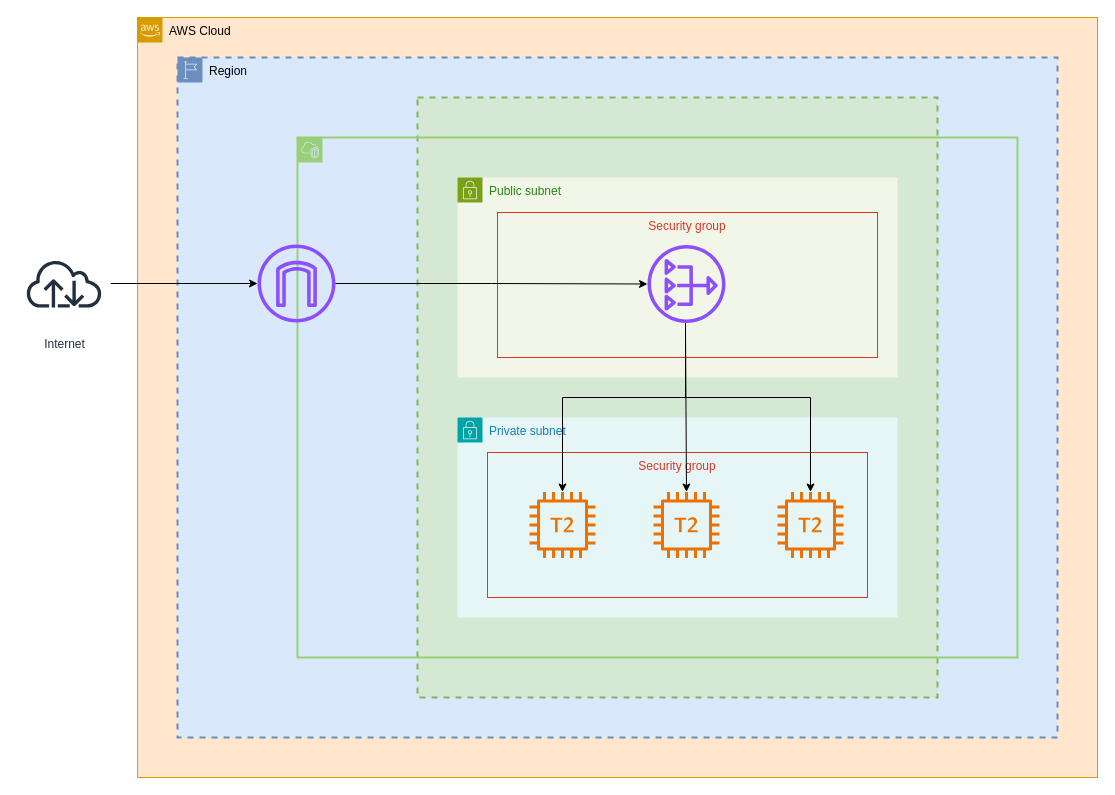
Image size: 1115x795. Some labels were removed from this diagram. The shapes that lost their labels are listed below. From the top down, each one's box as (x1, y1, x2, y2) in pixels, then its label:
(257, 244, 335, 322): Internet-Gateway
(647, 244, 725, 322): Gateway-NAT
(296, 136, 1018, 658): VPC
(416, 96, 938, 698): Availability Zone
